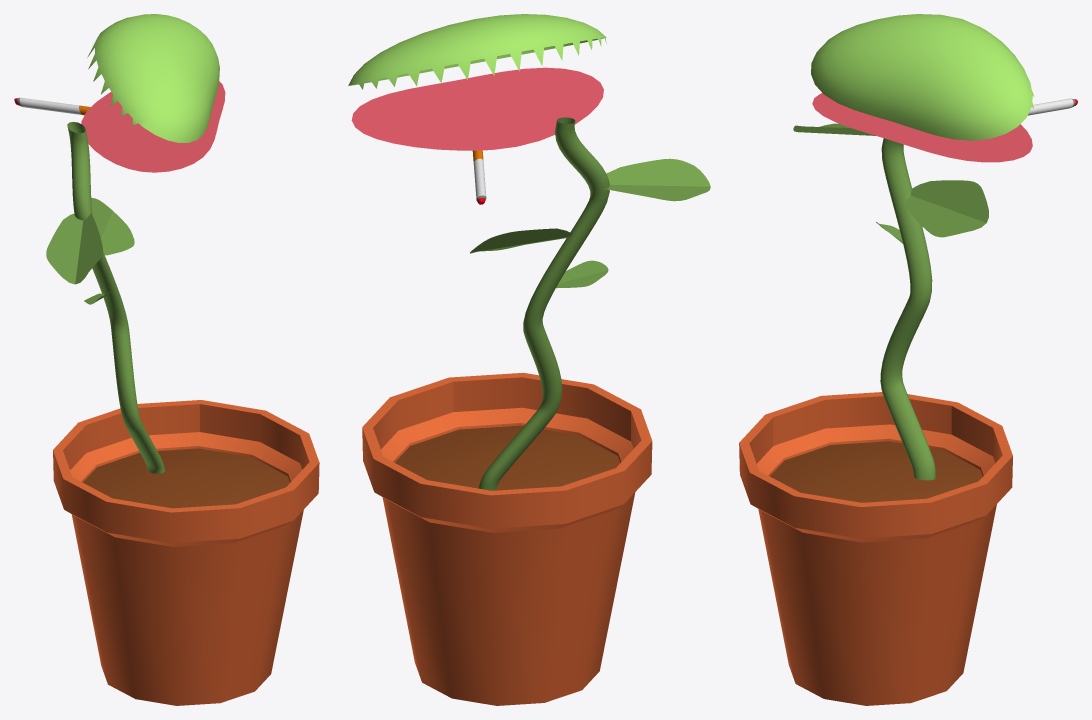
The model's file is VenusFlytrap2.glb.
3 views of the same model, side by side, from view 1: azimuth 30°, elevation 25°; view 2: azimuth 150°, elevation 25°; view 3: azimuth 270°, elevation 25° (orthographic). The views are drawn at different scales.
Parts seen in each view (by area): view 1: Cylinder.079, Sphere.097, Cylinder.078, NurbsPath.035, Sphere.095, Circle.018, Circle.001, ciggy.001; view 2: Cylinder.079, Sphere.095, Sphere.097, Cylinder.078, NurbsPath.035, Circle.018, Circle.001, Circle.017, ciggy.001; view 3: Cylinder.079, Sphere.097, Cylinder.078, NurbsPath.035, Sphere.095, Circle.001, Circle.018.
Boxes of the visible parts, x1,y1,x2,y2 form: Cylinder.079: (53, 400, 319, 705); Sphere.097: (87, 14, 219, 142); Cylinder.078: (83, 448, 289, 508); NurbsPath.035: (67, 122, 165, 473); Sphere.095: (81, 81, 225, 172); Circle.018: (46, 213, 102, 284); Circle.001: (91, 198, 134, 255); ciggy.001: (14, 97, 90, 115); Cylinder.079: (362, 372, 652, 705); Sphere.095: (351, 67, 603, 150); Sphere.097: (348, 14, 606, 89); Cylinder.078: (395, 425, 620, 490); NurbsPath.035: (478, 117, 609, 490); Circle.018: (605, 158, 710, 201); Circle.001: (470, 228, 572, 253); Circle.017: (555, 260, 608, 288); ciggy.001: (472, 150, 486, 204); Cylinder.079: (739, 392, 1012, 705); Sphere.097: (811, 14, 1034, 140); Cylinder.078: (770, 441, 982, 502); NurbsPath.035: (880, 138, 935, 480); Sphere.095: (812, 93, 1032, 162); Circle.001: (904, 180, 988, 237); Circle.018: (793, 123, 875, 135).
Size of the model in its own units: 2.18 by 4.78 by 2.31.
